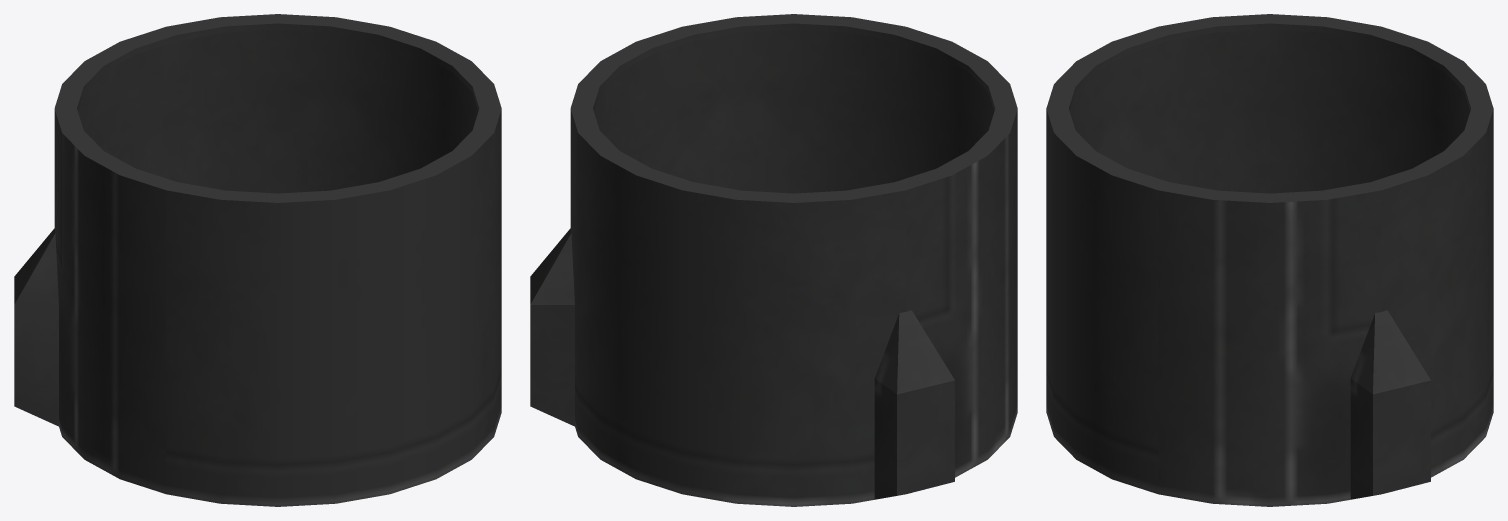
Rendered from rotanev_fuselage_s2_1.obj.
3 renders of one model, left to right at view 1: azimuth 30°, elevation 25°; view 2: azimuth 150°, elevation 25°; view 3: azimuth 270°, elevation 25°, orthographic.
Parts seen in each view (by area): view 1: 1; view 2: 1; view 3: 1.
Part boxes in pixels (x1=…): 1: x1=14, y1=14, x2=501, y2=506; 1: x1=530, y1=14, x2=1017, y2=506; 1: x1=1046, y1=14, x2=1493, y2=506.
Size of the model in its own units: 2.74 by 1.88 by 2.5.
